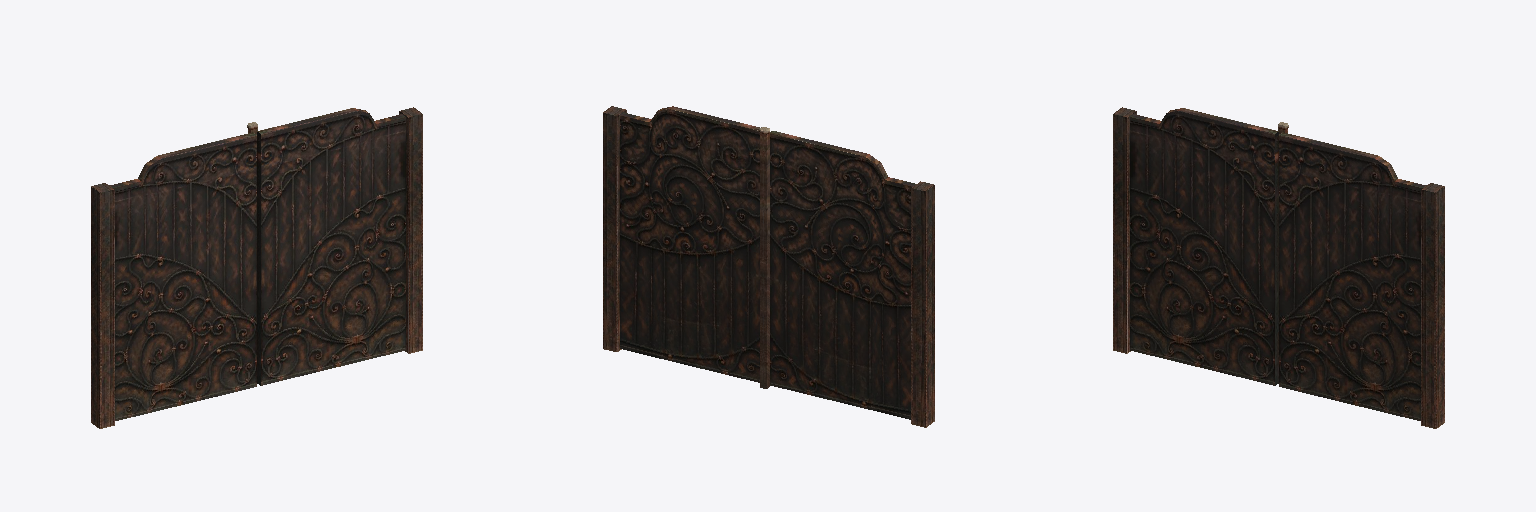
3 views of the same model, side by side, from view 1: azimuth 30°, elevation 25°; view 2: azimuth 150°, elevation 25°; view 3: azimuth 330°, elevation 25° (orthographic).
Visible parts, largest first — view 1: Cube; view 2: Cube; view 3: Cube.
Part boxes in pixels (bbox=[...]): Cube: bbox=[91, 107, 422, 428]; Cube: bbox=[603, 106, 934, 427]; Cube: bbox=[1113, 107, 1444, 428].
Bounding box in the file's own units: 3.37 × 2.59 × 0.2002.
1 materials, 1 textured.